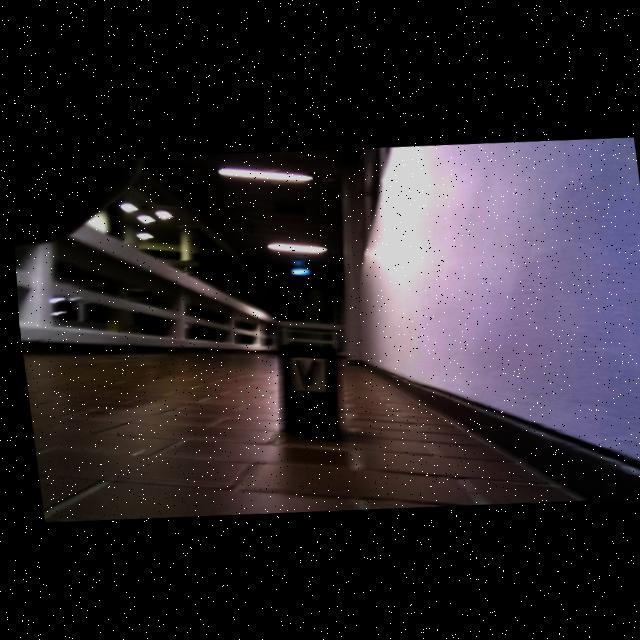V: (291, 358, 312, 385)
